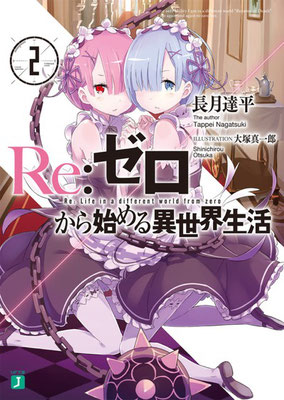rem: (124, 22, 276, 347)
